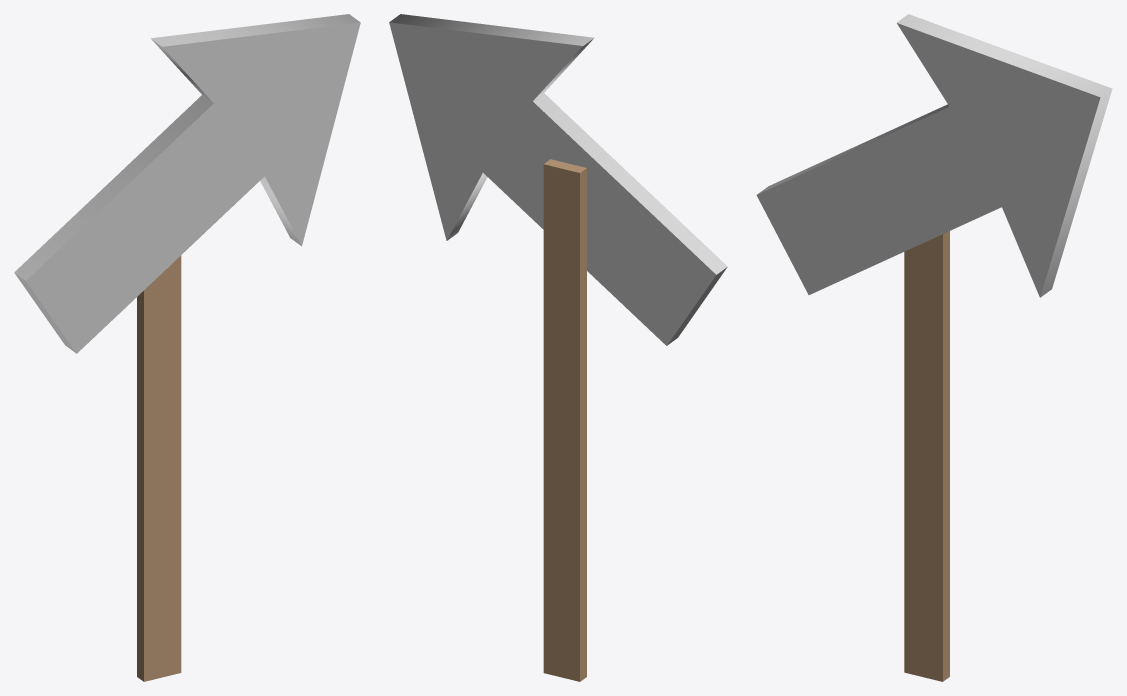
The model's file is Park_Pijl_UP.fbx.
3 views of the same model, side by side, from view 1: azimuth 30°, elevation 25°; view 2: azimuth 150°, elevation 25°; view 3: azimuth 330°, elevation 25° (orthographic). The views are drawn at different scales.
Parts seen in each view (by area): view 1: polySurface714; view 2: polySurface714; view 3: polySurface714.
Part boxes in pixels (x1,y1,x2,y2): polySurface714: (14, 14, 360, 681); polySurface714: (389, 14, 727, 681); polySurface714: (756, 14, 1112, 681).
Size of the model in its own units: 4.71 by 8.64 by 0.4881.
